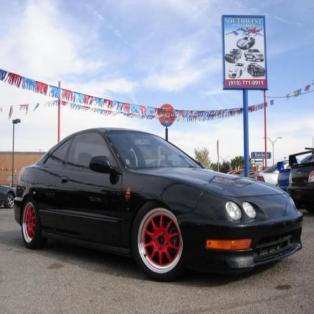Auto: (13, 125, 305, 283)
